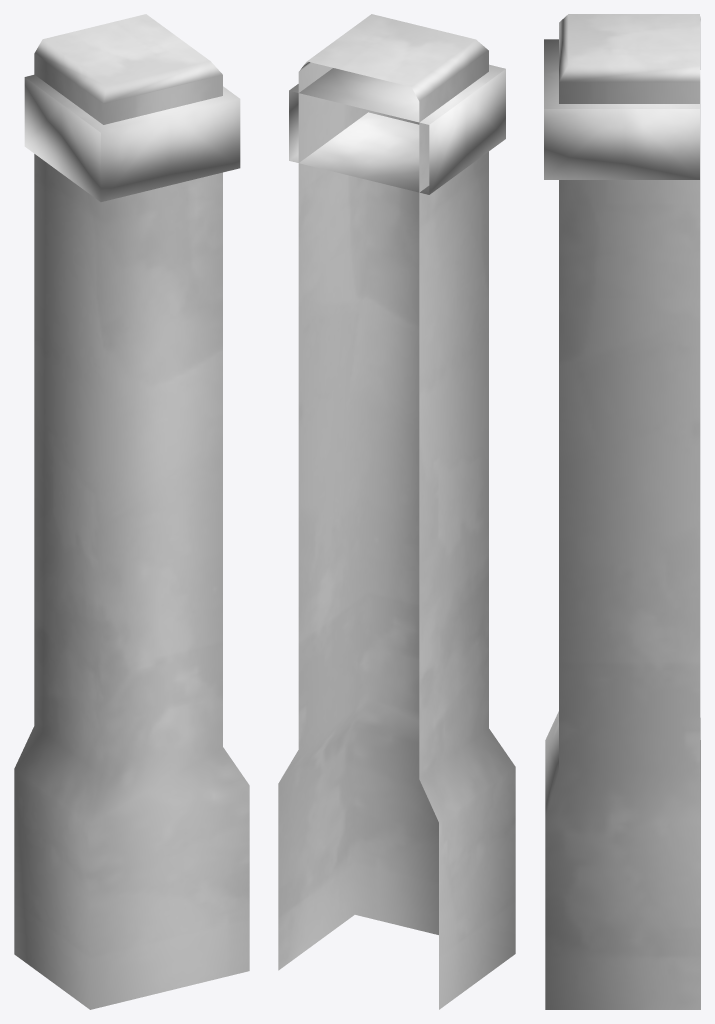
The model's file is Wall_WoodDecoPillar.fbx.
3 renders of one model, left to right at view 1: azimuth 30°, elevation 25°; view 2: azimuth 150°, elevation 25°; view 3: azimuth 270°, elevation 25°, orthographic. The views are drawn at different scales.
Parts seen in each view (by area): view 1: Wall_WoodDecoPillar; view 2: Wall_WoodDecoPillar; view 3: Wall_WoodDecoPillar.
Part boxes in pixels (<box>): Wall_WoodDecoPillar: <box>14,14,249,1009</box>; Wall_WoodDecoPillar: <box>278,14,515,1009</box>; Wall_WoodDecoPillar: <box>544,14,700,1009</box>.
Size of the model in its own units: 1.07 by 5.84 by 0.8914.
